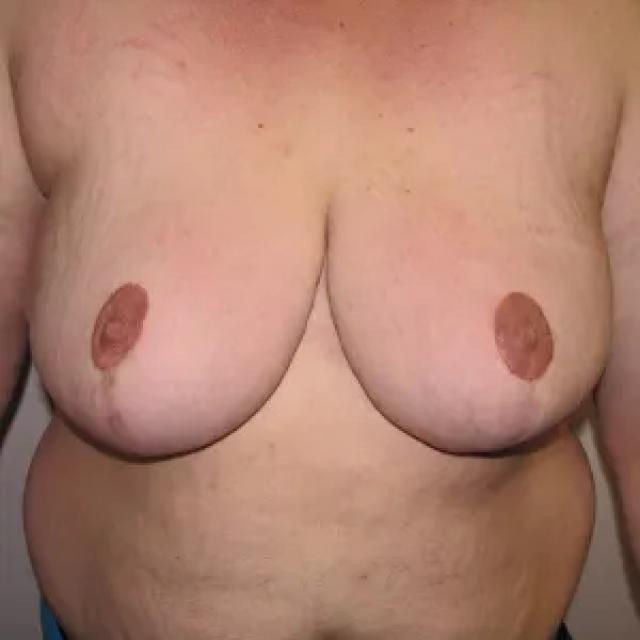Seno herido: (20, 130, 324, 481)
Seno ileso: (326, 130, 622, 477)
